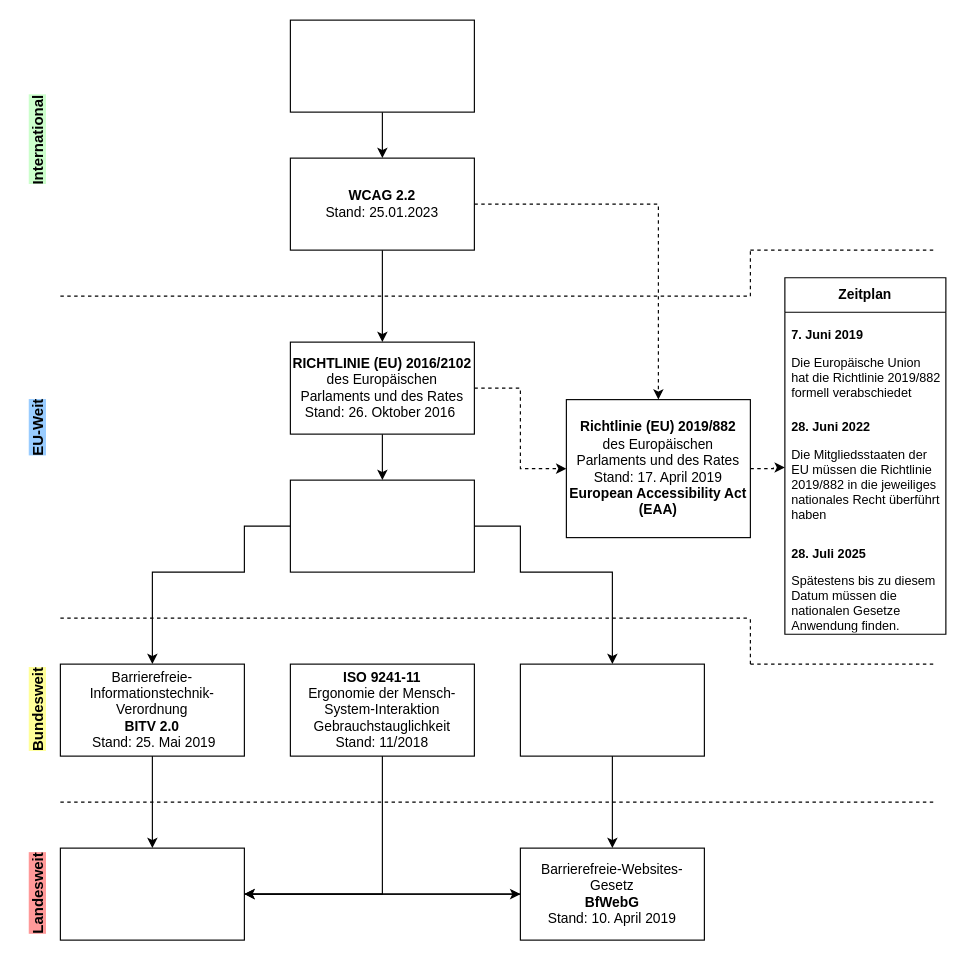
Some shapes in this 966 by 966 pixel diagram are drawn without their labels. The shapes that lost their labels are listed below. From the top down, each one's box as (x1, y1, x2, y2) in pixels, then its label:
(289, 19, 474, 112): Web Content Accessibility Guidelines (WCAG)
(289, 479, 474, 572): Europäischen Norm (EN) 301 549 (Abschnitt 9 Web) Stand: 10/2021
(519, 663, 704, 756): Gesetz zur Gleichstellung von Menschen mit Behinderungen BGG Stand: 07/2018
(59, 847, 244, 940): Sächsisches Inklusionsgesetz SächsInklusG Stand: 2. Juli 2019
